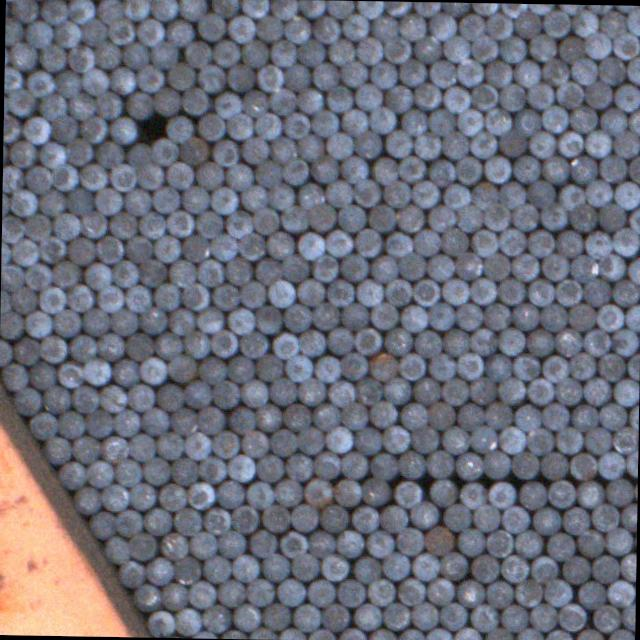tool: (70, 434, 100, 464), (20, 115, 50, 144), (182, 379, 212, 408), (42, 384, 70, 414), (155, 382, 183, 412), (84, 408, 112, 438), (484, 400, 512, 430), (546, 478, 574, 508), (172, 554, 200, 584), (51, 308, 80, 336), (266, 278, 294, 307), (124, 332, 152, 361), (125, 383, 154, 411), (582, 376, 610, 405), (441, 130, 468, 160), (598, 10, 626, 38), (8, 42, 36, 70), (470, 34, 498, 62), (6, 86, 34, 114), (180, 86, 208, 114), (92, 90, 120, 118), (428, 58, 456, 86), (512, 58, 540, 86), (582, 80, 610, 108), (554, 80, 582, 108), (194, 210, 222, 238), (94, 236, 122, 264), (237, 232, 265, 260), (264, 231, 292, 259), (0, 362, 28, 390), (12, 386, 40, 414), (42, 436, 70, 464), (570, 254, 598, 282), (296, 278, 324, 306), (581, 278, 609, 306), (283, 302, 311, 330), (172, 606, 200, 634), (396, 352, 424, 380), (98, 384, 126, 412), (100, 435, 128, 463), (268, 377, 296, 405), (412, 376, 440, 404), (468, 376, 496, 404), (282, 403, 310, 431), (368, 400, 396, 428), (456, 403, 484, 431), (324, 424, 352, 452), (440, 426, 468, 454), (497, 426, 525, 454), (217, 529, 245, 557), (424, 526, 452, 554), (470, 554, 498, 582), (152, 86, 179, 115), (182, 185, 209, 214), (85, 459, 114, 486), (453, 352, 482, 379), (142, 406, 168, 436), (584, 426, 610, 456), (24, 20, 52, 47), (197, 12, 224, 40), (542, 9, 569, 37), (570, 8, 597, 36), (92, 41, 120, 68), (120, 41, 148, 68), (149, 40, 176, 68), (296, 38, 324, 65), (413, 34, 440, 62), (529, 33, 556, 61), (612, 32, 640, 59), (80, 67, 108, 94), (136, 64, 163, 92), (197, 64, 224, 92), (282, 63, 310, 90), (398, 58, 426, 85), (470, 83, 498, 110), (498, 82, 525, 110), (51, 114, 78, 142), (339, 108, 366, 136), (456, 108, 483, 136), (180, 137, 207, 165), (78, 163, 106, 190), (225, 162, 252, 190), (66, 188, 94, 215), (210, 186, 237, 214), (382, 180, 410, 207), (469, 182, 496, 210), (540, 155, 568, 182), (569, 155, 596, 183), (456, 203, 483, 231), (569, 202, 596, 230), (10, 238, 37, 266), (153, 234, 180, 262), (181, 234, 208, 262), (208, 233, 236, 260), (440, 227, 468, 254), (471, 228, 498, 256), (497, 228, 525, 255), (584, 230, 611, 258), (612, 227, 639, 255), (28, 411, 56, 438), (58, 461, 86, 488), (453, 252, 481, 279), (82, 307, 109, 335), (138, 305, 165, 333), (181, 282, 208, 310), (355, 278, 382, 306), (227, 306, 254, 334), (384, 327, 411, 355), (453, 302, 481, 329), (468, 327, 495, 355), (138, 356, 166, 383), (582, 329, 610, 356), (115, 508, 142, 536), (368, 352, 396, 379), (596, 352, 623, 380), (70, 384, 97, 412), (239, 379, 266, 407), (326, 379, 354, 406), (382, 376, 410, 403), (497, 376, 524, 404), (254, 404, 282, 431), (155, 430, 182, 458), (183, 431, 210, 459), (211, 430, 239, 457), (570, 403, 598, 430), (381, 425, 408, 453), (215, 480, 242, 508), (186, 481, 214, 508), (597, 450, 624, 478), (279, 531, 307, 558), (202, 554, 229, 582), (290, 553, 318, 580), (187, 579, 214, 607), (245, 578, 272, 606), (411, 552, 438, 580), (500, 505, 528, 532), (590, 503, 617, 531), (500, 554, 528, 581), (355, 36, 381, 65), (598, 55, 624, 84), (428, 204, 457, 230), (153, 332, 182, 358), (128, 531, 154, 560), (136, 18, 163, 45), (165, 19, 192, 46), (227, 15, 254, 42), (283, 16, 310, 43), (484, 12, 511, 39), (183, 40, 210, 67), (167, 62, 194, 89), (125, 91, 152, 118), (369, 61, 396, 88), (484, 59, 511, 86), (570, 57, 597, 84), (613, 83, 640, 110), (109, 116, 136, 143), (23, 213, 50, 240), (195, 162, 222, 189), (95, 188, 122, 215), (165, 209, 192, 236), (253, 160, 280, 187), (483, 203, 510, 230), (526, 180, 553, 207), (37, 235, 64, 262), (125, 236, 152, 263), (339, 253, 366, 280), (24, 309, 51, 336), (414, 329, 441, 356), (595, 303, 622, 330), (339, 351, 366, 378), (100, 483, 127, 510), (312, 404, 339, 431), (241, 429, 268, 456), (529, 603, 556, 630), (52, 20, 80, 46), (254, 14, 282, 40), (514, 10, 540, 38), (212, 39, 238, 67), (39, 92, 65, 120), (268, 88, 296, 114), (412, 83, 440, 109), (540, 58, 568, 84), (354, 84, 382, 110), (80, 114, 106, 142), (429, 108, 455, 136), (470, 130, 496, 158), (498, 129, 526, 155), (528, 130, 554, 158), (584, 129, 610, 157), (110, 163, 136, 191), (124, 188, 150, 216), (152, 187, 180, 213), (138, 210, 164, 238), (352, 178, 378, 206), (280, 204, 308, 230), (338, 204, 366, 230), (396, 204, 424, 230), (584, 180, 612, 206), (298, 232, 324, 260), (324, 230, 352, 256), (354, 228, 380, 256), (526, 230, 554, 256), (103, 536, 129, 564), (132, 584, 160, 610), (138, 258, 164, 286), (168, 259, 196, 285), (196, 258, 222, 286), (97, 284, 123, 312), (124, 284, 150, 312), (153, 282, 179, 310), (412, 278, 438, 306), (469, 276, 495, 304), (96, 332, 122, 360), (182, 330, 208, 358), (238, 332, 266, 358), (296, 328, 324, 354), (554, 328, 580, 356), (166, 354, 194, 380), (610, 328, 636, 356), (57, 410, 83, 438), (145, 556, 171, 584), (428, 352, 454, 380), (540, 356, 568, 382), (112, 408, 138, 436), (355, 376, 381, 404), (440, 378, 468, 404), (554, 378, 582, 404), (228, 406, 254, 434), (128, 432, 154, 460), (469, 425, 495, 453), (554, 427, 582, 453), (612, 426, 638, 454), (304, 478, 330, 506), (510, 452, 538, 478), (360, 478, 388, 504), (261, 504, 289, 530), (262, 552, 288, 580), (215, 579, 243, 605), (276, 579, 304, 605), (380, 552, 408, 578), (438, 552, 464, 580), (592, 554, 618, 582), (604, 526, 630, 554), (107, 17, 133, 44), (312, 15, 338, 42), (341, 13, 368, 39), (458, 14, 485, 40), (67, 45, 93, 72), (327, 39, 354, 65), (382, 36, 409, 62), (442, 35, 468, 62), (560, 36, 586, 63), (54, 70, 80, 97), (108, 66, 134, 93), (226, 64, 253, 90), (66, 92, 92, 119), (256, 63, 282, 90), (339, 60, 366, 86), (241, 89, 268, 115), (442, 86, 469, 112), (383, 85, 410, 111), (326, 85, 352, 112), (526, 82, 552, 109), (166, 115, 192, 142), (254, 112, 281, 138), (284, 111, 310, 138), (368, 106, 394, 133), (484, 108, 511, 134), (514, 110, 541, 136), (541, 105, 567, 132), (569, 106, 596, 132), (600, 107, 626, 134), (9, 142, 36, 168), (40, 142, 66, 169), (385, 129, 411, 156), (51, 163, 77, 190), (166, 161, 192, 188), (78, 211, 105, 237), (340, 156, 367, 182), (397, 156, 424, 182), (412, 180, 438, 207), (443, 183, 469, 210), (598, 154, 624, 181), (226, 211, 252, 238), (252, 206, 278, 233), (308, 203, 334, 230), (613, 182, 640, 208), (68, 237, 94, 264), (83, 262, 110, 288), (111, 260, 138, 286), (370, 254, 396, 281), (426, 253, 452, 280), (511, 253, 537, 280), (541, 252, 567, 279), (66, 284, 92, 311), (12, 338, 39, 364), (39, 335, 65, 362), (69, 334, 95, 361), (210, 329, 236, 356), (370, 301, 397, 327), (399, 305, 426, 331), (539, 304, 566, 330), (496, 328, 523, 354), (27, 362, 54, 388), (111, 360, 138, 386), (198, 358, 225, 384), (484, 354, 511, 380), (212, 381, 238, 408), (297, 378, 324, 404), (526, 377, 552, 404), (170, 408, 197, 434), (339, 402, 366, 428), (399, 403, 426, 429), (427, 402, 453, 429), (269, 429, 296, 455), (354, 427, 381, 453), (542, 402, 568, 429), (599, 402, 625, 429), (410, 426, 437, 452), (114, 458, 140, 485), (198, 456, 225, 482), (227, 454, 253, 481), (246, 482, 273, 508), (158, 483, 184, 510), (339, 452, 366, 478), (426, 449, 452, 476), (428, 478, 454, 505), (488, 481, 514, 508), (576, 480, 602, 507), (606, 477, 632, 504), (173, 508, 200, 534), (203, 508, 230, 534), (189, 532, 216, 558), (249, 530, 275, 557), (307, 579, 334, 605), (336, 530, 362, 557), (336, 580, 363, 606), (367, 578, 394, 604), (457, 579, 483, 606), (440, 602, 466, 629), (293, 604, 319, 631), (233, 604, 260, 630), (576, 528, 602, 555), (577, 582, 604, 608), (558, 603, 584, 630), (469, 604, 496, 630), (354, 130, 379, 158), (298, 182, 323, 210), (368, 205, 396, 230), (11, 285, 36, 313), (354, 326, 379, 354), (569, 302, 594, 330), (161, 582, 186, 610), (296, 428, 324, 453), (232, 554, 257, 582), (256, 304, 280, 333), (429, 13, 455, 39), (241, 40, 267, 66), (584, 32, 610, 58), (312, 62, 338, 88), (197, 114, 223, 140), (226, 113, 252, 139), (311, 110, 337, 136), (65, 138, 91, 164), (96, 142, 122, 168), (152, 138, 178, 164), (270, 137, 296, 163), (325, 132, 351, 158), (613, 132, 639, 158), (10, 190, 36, 216), (38, 190, 64, 216), (109, 212, 135, 238), (266, 182, 292, 208), (324, 180, 350, 206), (513, 156, 539, 182), (498, 183, 524, 209), (558, 184, 584, 210), (540, 203, 566, 229), (555, 230, 581, 256), (146, 610, 172, 636), (52, 260, 78, 286), (482, 252, 508, 278), (110, 308, 136, 334), (212, 284, 238, 310), (384, 278, 410, 304), (442, 278, 468, 304), (554, 278, 580, 304), (168, 308, 194, 334), (312, 302, 338, 328), (326, 327, 352, 353), (482, 302, 508, 328), (511, 303, 537, 329), (442, 329, 468, 355), (526, 329, 552, 355), (284, 354, 310, 380), (313, 354, 339, 380), (568, 352, 594, 378), (613, 378, 639, 404), (526, 428, 552, 454), (128, 482, 154, 508), (540, 452, 566, 478), (394, 481, 420, 507), (569, 453, 595, 479), (290, 504, 316, 530), (160, 532, 186, 558), (308, 532, 334, 558), (320, 506, 346, 532), (396, 528, 422, 554), (397, 578, 423, 604), (382, 602, 408, 628), (442, 504, 468, 530), (472, 504, 498, 530), (457, 528, 483, 554), (514, 530, 540, 556), (530, 556, 556, 582), (562, 556, 588, 582), (514, 578, 540, 604), (544, 578, 570, 604), (608, 580, 634, 606), (501, 604, 527, 630), (80, 18, 105, 45), (399, 13, 424, 40), (26, 70, 53, 95), (213, 92, 240, 117), (241, 184, 266, 211), (39, 286, 64, 313), (56, 362, 83, 387), (253, 354, 280, 379), (195, 408, 222, 433), (143, 457, 168, 484), (274, 480, 301, 505), (321, 553, 346, 580), (532, 508, 559, 533), (486, 529, 511, 556), (593, 604, 618, 631), (26, 165, 50, 193), (456, 156, 480, 184), (512, 202, 536, 230), (119, 559, 143, 587), (546, 534, 574, 558), (40, 0, 66, 25), (371, 15, 396, 41), (39, 44, 64, 70), (500, 36, 526, 61), (296, 87, 322, 112), (280, 158, 306, 183), (484, 156, 509, 182), (386, 232, 412, 257), (414, 229, 439, 255), (74, 487, 100, 512), (282, 255, 307, 281), (398, 252, 423, 278), (327, 280, 352, 306), (341, 304, 366, 330), (84, 358, 109, 384), (512, 354, 538, 379), (514, 405, 540, 430), (256, 455, 282, 480), (313, 452, 338, 478), (457, 452, 482, 478), (334, 480, 359, 506), (144, 508, 169, 534), (367, 530, 392, 556), (427, 578, 452, 604), (322, 604, 347, 630), (66, 0, 93, 24), (270, 39, 294, 66), (458, 58, 482, 85), (212, 140, 236, 167), (298, 134, 322, 161), (600, 203, 624, 230), (90, 511, 114, 538), (598, 253, 622, 280), (1, 214, 24, 242), (414, 134, 439, 159), (429, 160, 454, 185), (497, 279, 522, 304), (483, 451, 508, 476), (242, 136, 266, 162), (136, 164, 162, 188), (54, 212, 78, 238), (311, 157, 337, 181), (24, 264, 50, 288), (256, 259, 282, 283), (312, 254, 336, 280), (240, 280, 264, 306), (526, 280, 552, 304), (198, 306, 222, 332), (428, 302, 452, 328), (272, 332, 296, 358), (226, 356, 250, 382), (172, 458, 196, 484), (286, 454, 310, 480), (398, 452, 424, 476), (520, 482, 544, 508), (232, 505, 256, 531), (382, 506, 406, 532), (410, 503, 436, 527), (412, 602, 436, 628), (263, 603, 289, 627), (202, 606, 228, 630), (486, 580, 510, 606), (401, 110, 426, 134), (558, 131, 582, 156), (612, 280, 636, 305), (372, 453, 396, 478), (460, 483, 484, 508), (354, 558, 379, 582), (354, 604, 379, 628), (564, 508, 588, 533), (0, 311, 22, 338), (226, 260, 250, 284), (352, 507, 376, 531), (96, 0, 121, 23), (128, 143, 151, 168), (10, 0, 36, 22), (1, 264, 23, 290), (373, 158, 396, 182), (2, 165, 22, 192), (148, 0, 176, 19), (297, 0, 325, 19), (178, 0, 205, 19), (121, 0, 147, 19), (270, 0, 296, 19), (326, 1, 354, 18), (3, 114, 20, 142), (240, 0, 267, 17), (620, 552, 636, 580), (5, 18, 22, 44), (4, 66, 20, 93), (357, 1, 382, 18), (625, 55, 640, 83), (211, 0, 237, 16), (620, 504, 636, 530), (440, 2, 468, 16), (626, 7, 640, 34), (412, 2, 438, 16), (383, 2, 410, 15), (627, 155, 640, 182), (484, 627, 511, 640), (454, 627, 480, 640), (622, 603, 635, 629), (470, 3, 498, 15), (626, 306, 640, 330), (626, 354, 639, 379), (339, 627, 364, 640), (499, 4, 526, 16), (626, 449, 638, 476), (277, 628, 304, 640), (628, 257, 640, 283), (250, 627, 276, 639), (399, 628, 425, 640), (516, 628, 542, 640), (607, 628, 633, 640), (425, 628, 450, 640), (629, 109, 640, 136), (629, 206, 640, 233), (575, 629, 602, 640), (369, 629, 395, 640), (0, 340, 11, 365), (527, 4, 553, 14), (0, 290, 10, 316), (545, 630, 571, 640)
void: (132, 110, 166, 143)
